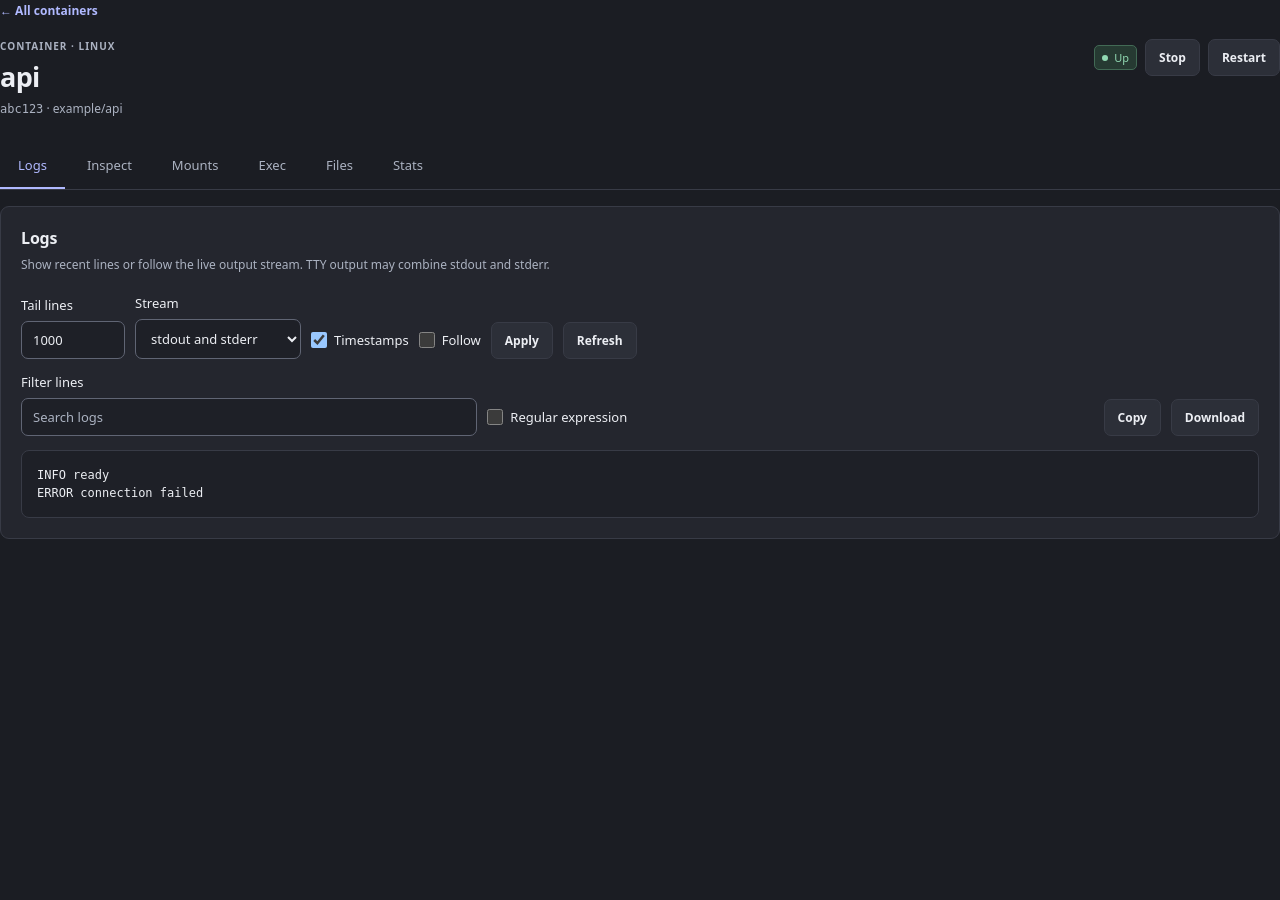
it: opens an interactive terminal and forwards input before disconnecting
Click the button "Exec" at (272, 166), box [240, 143, 304, 189]
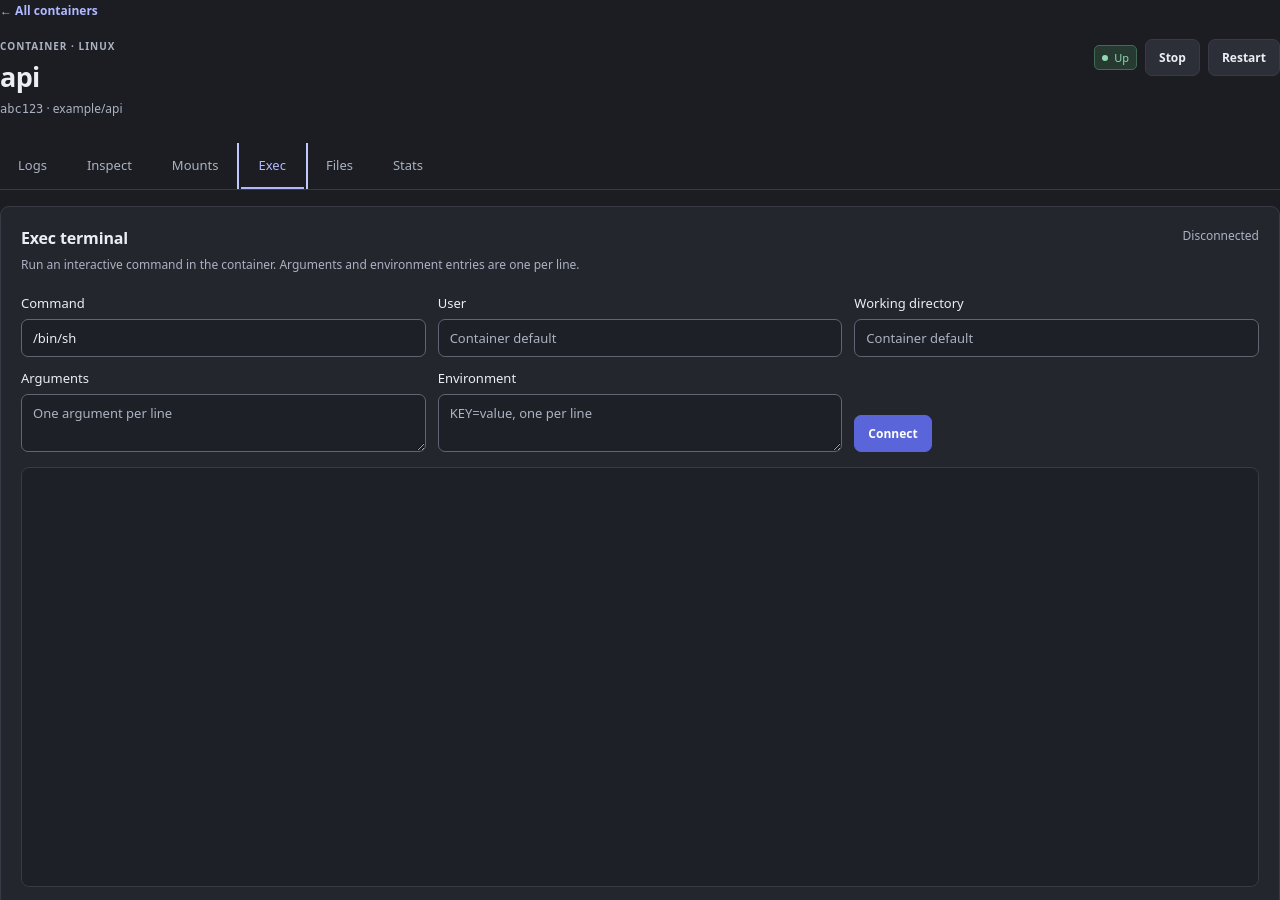
Type "nobody" into the field labelled "User" at (640, 338), box [438, 319, 842, 357]
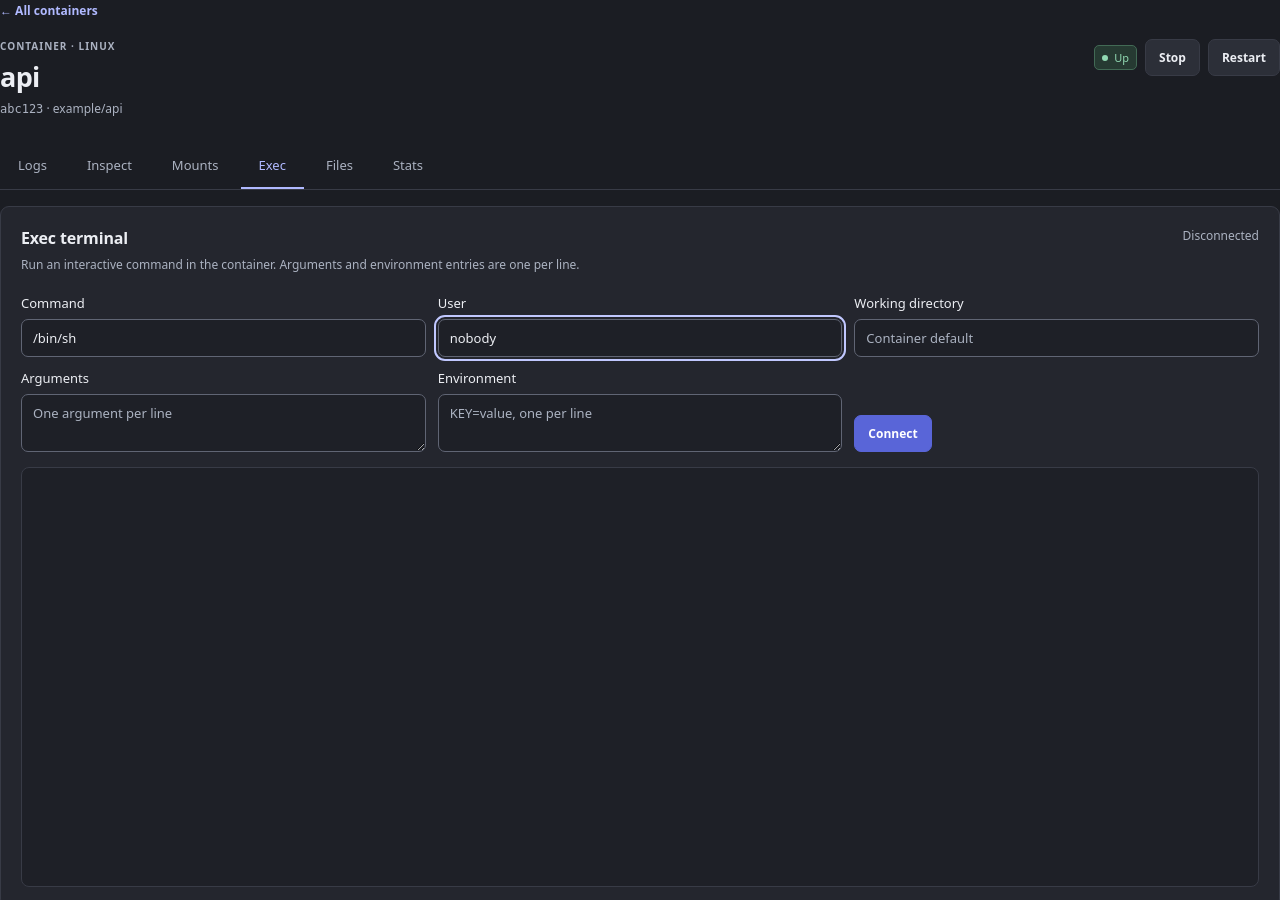
Type "/tmp" into the field labelled "Working directory" at (1057, 338), box [854, 319, 1259, 357]
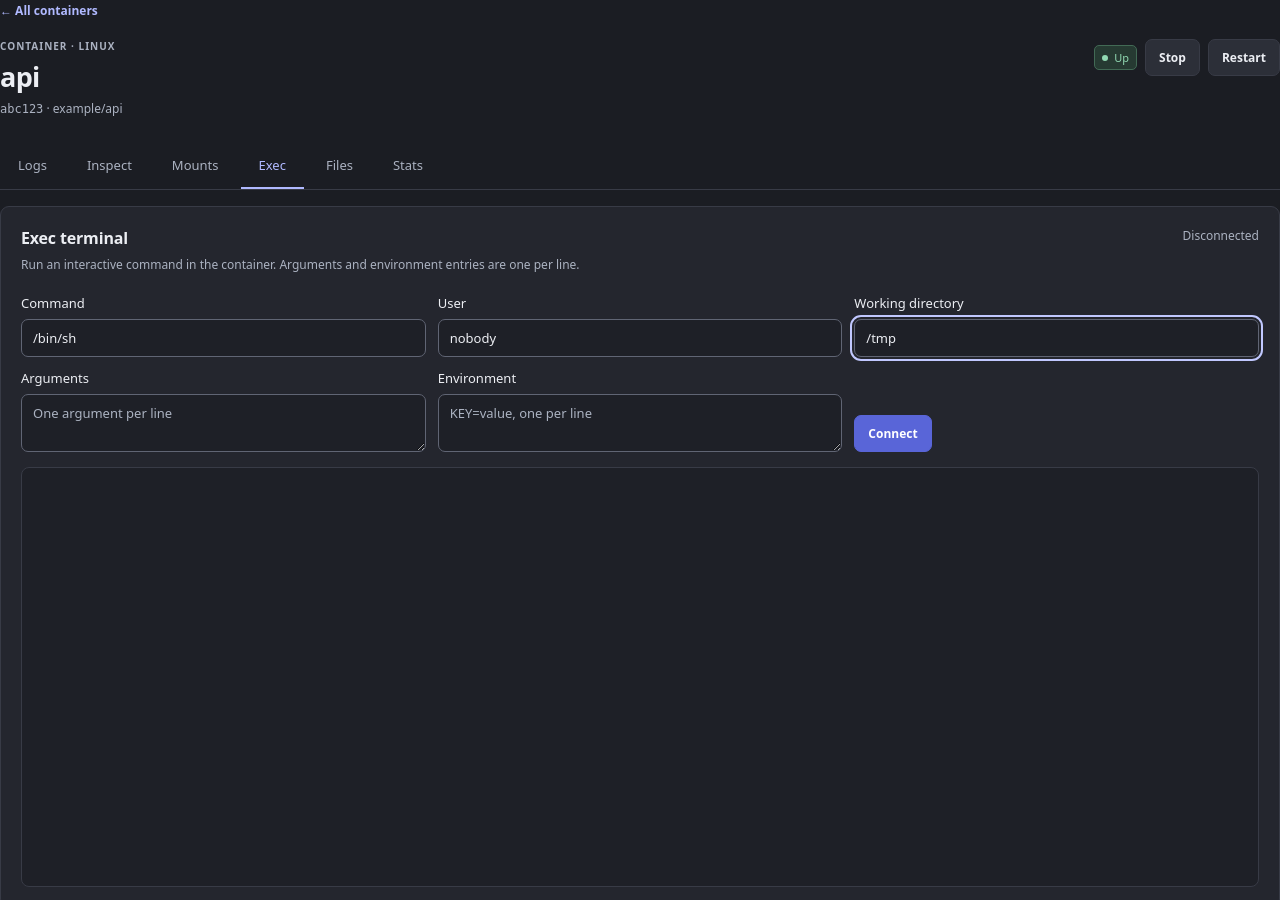
Type "MODE=test" into the text box labelled "Environment" at (640, 423), box [438, 394, 842, 452]
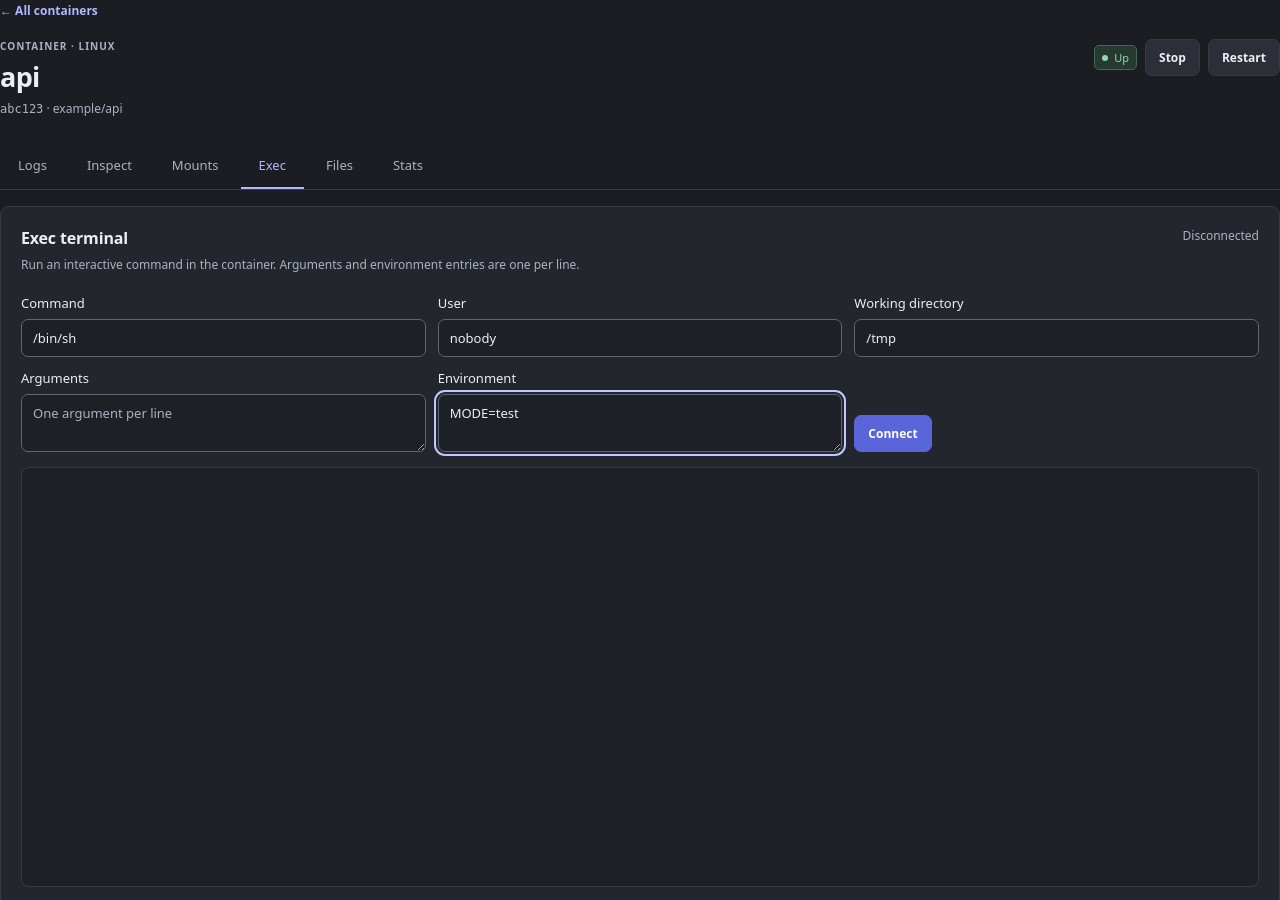
Click the button "Connect" at (893, 434), box [854, 415, 932, 452]
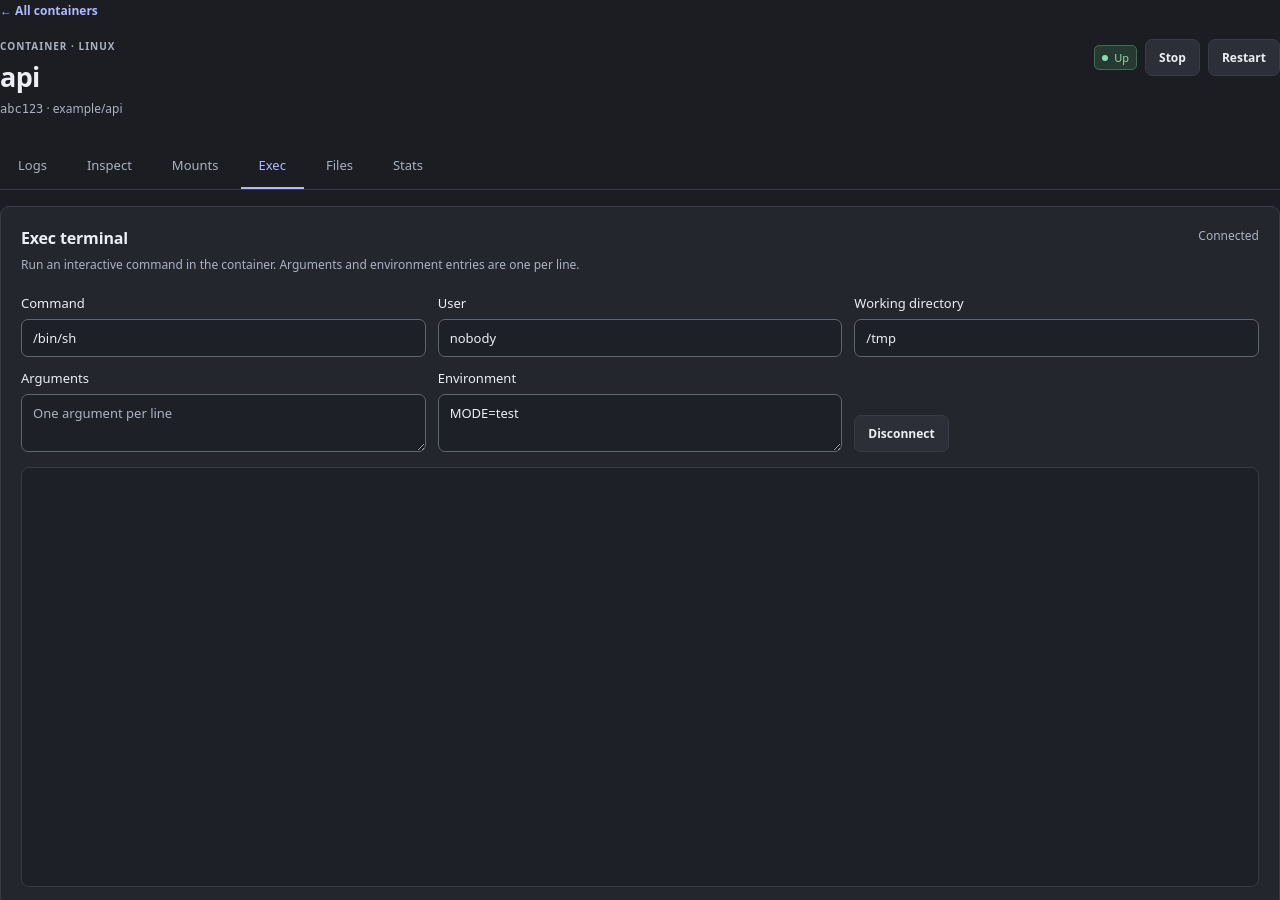
Check: the text "Connected" is shown, box [1198, 227, 1259, 244]
Click the button "Disconnect" at (901, 434), box [854, 415, 949, 452]
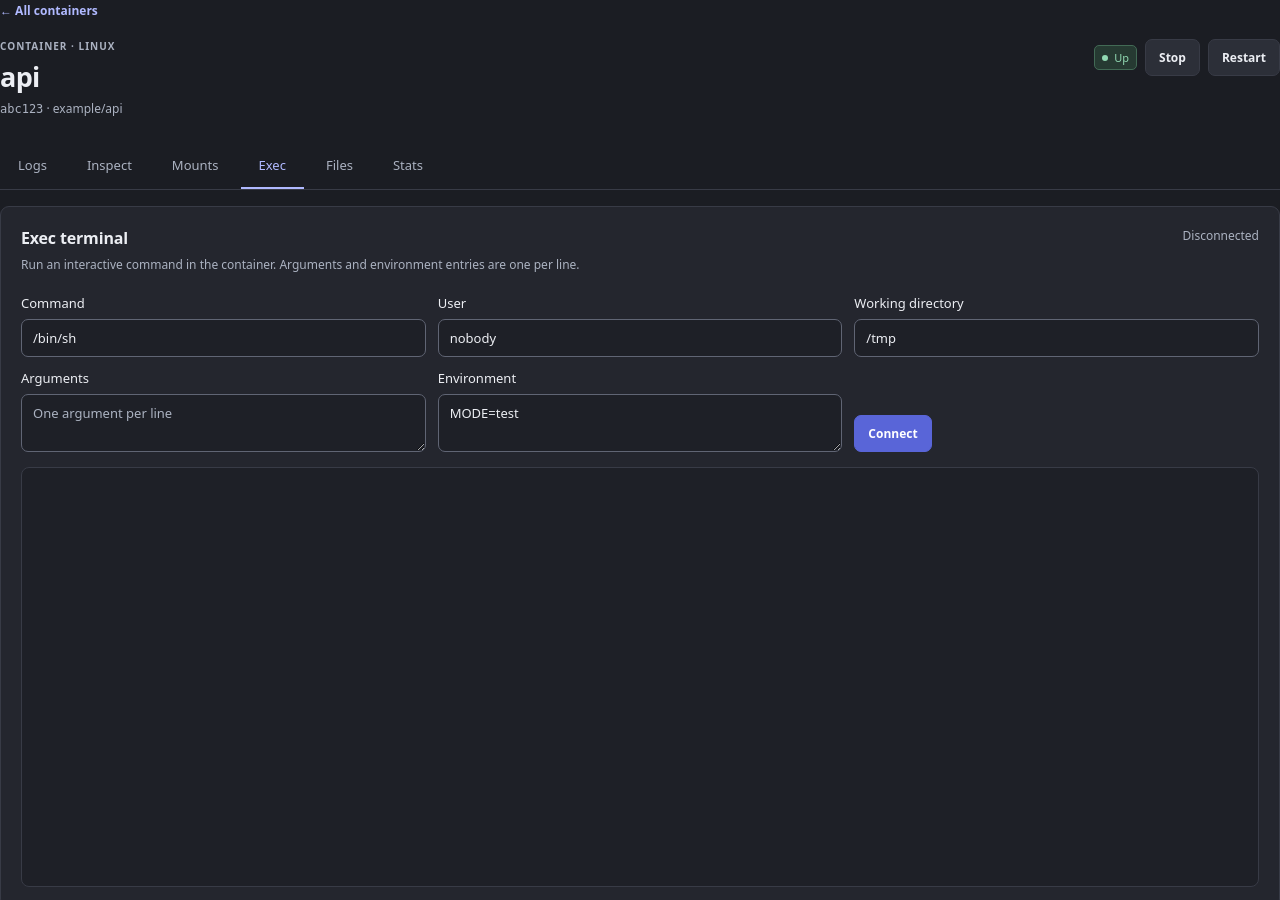
Check: the text "Disconnected" is shown, box [1182, 227, 1259, 244]
